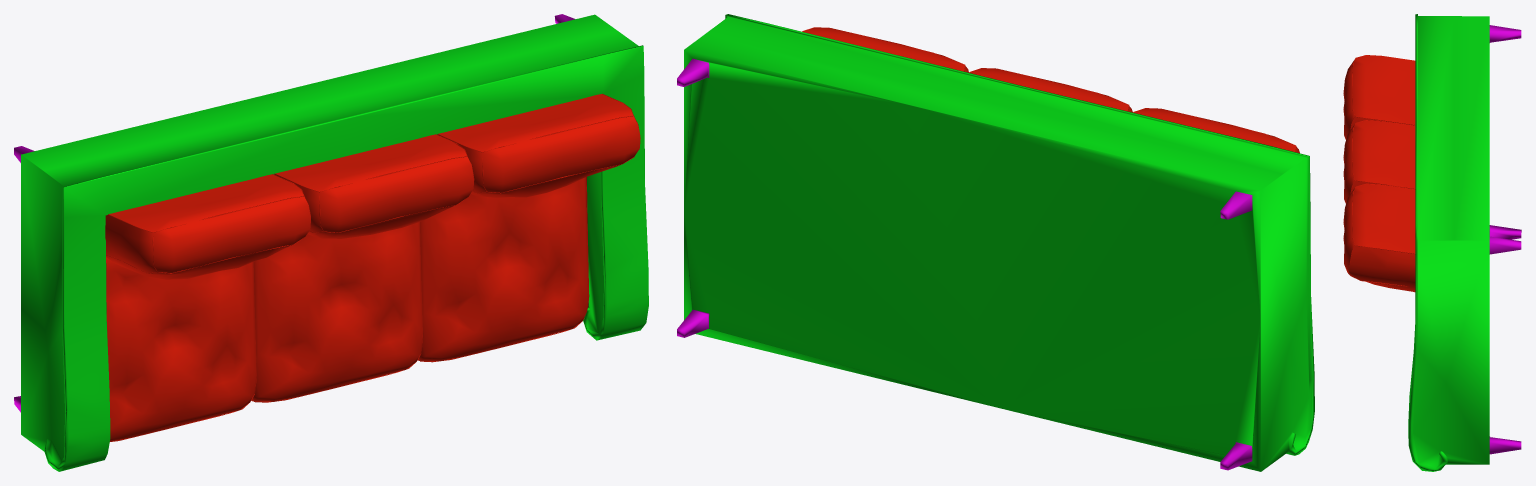
The model's file is SM_Sofa.fbx.
The picture shows the model from 3 angles, left to right: view 1: azimuth 30°, elevation 25°; view 2: azimuth 150°, elevation 25°; view 3: azimuth 270°, elevation 25°; orthographic projection. The views are drawn at different scales.
Visible parts, largest first — view 1: polyreduce1; view 2: polyreduce1; view 3: polyreduce1.
Boxes of the visible parts, bbox=[...] form: polyreduce1: bbox=[14, 14, 648, 471]; polyreduce1: bbox=[677, 14, 1314, 471]; polyreduce1: bbox=[1343, 14, 1521, 471].
Size of the model in its own units: 9.24 by 4.39 by 3.06.
